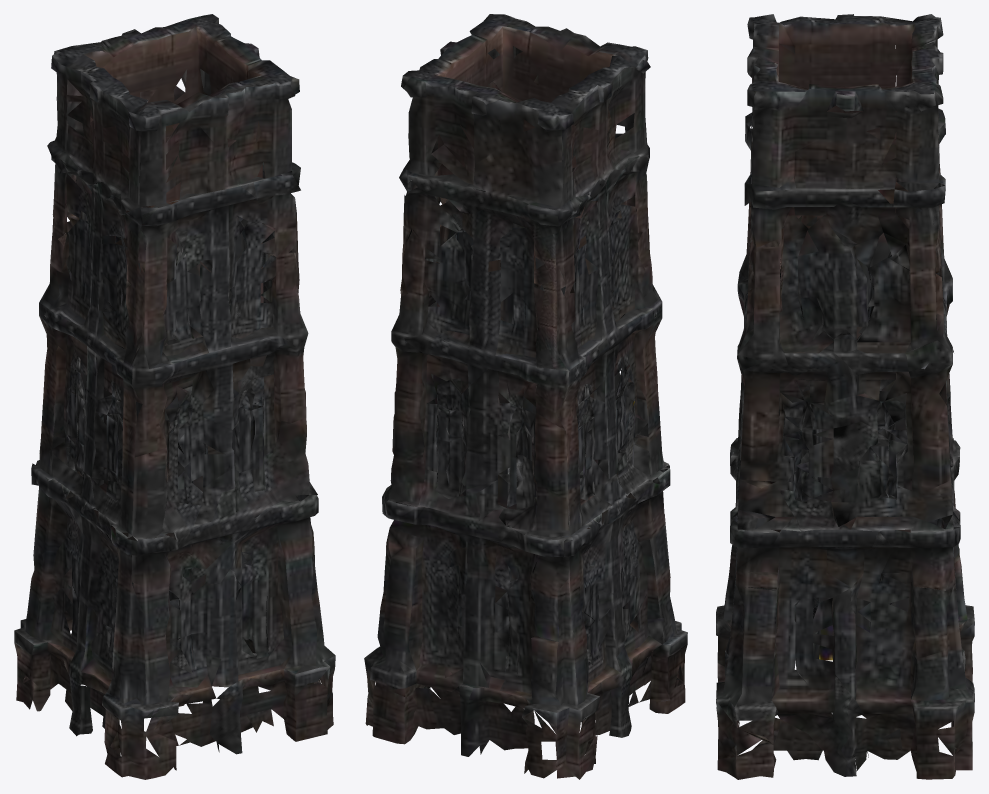
Rendered from hero_chimney.glb.
3 renders of one model, left to right at view 1: azimuth 30°, elevation 25°; view 2: azimuth 150°, elevation 25°; view 3: azimuth 270°, elevation 25°, orthographic. The views are drawn at different scales.
Visible parts, largest first — view 1: hero_chimney; view 2: hero_chimney; view 3: hero_chimney.
Boxes of the visible parts, x1,y1,x2,y2 form: hero_chimney: [14, 14, 335, 779]; hero_chimney: [364, 14, 687, 779]; hero_chimney: [716, 14, 974, 779].
Size of the model in its own units: 1.39 by 4 by 1.4.
Materials: 1 (1 with a texture image).
